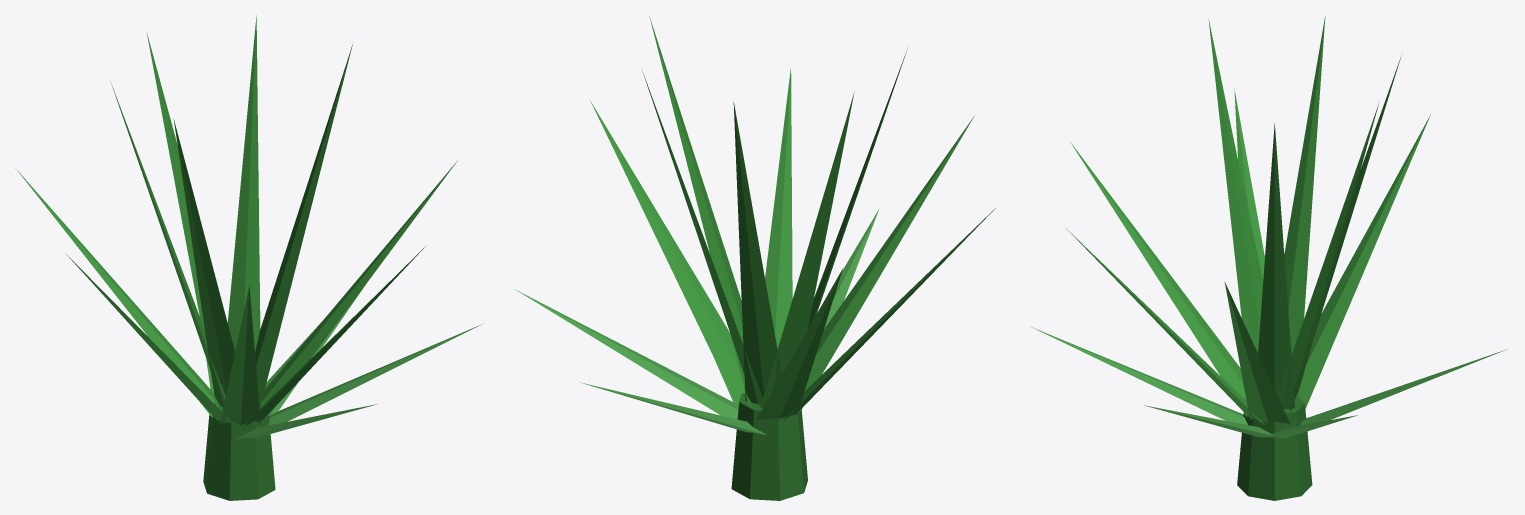
File: Planta_Pineapple.fbx
3 views of the same model, side by side, from view 1: azimuth 30°, elevation 25°; view 2: azimuth 150°, elevation 25°; view 3: azimuth 270°, elevation 25° (orthographic). The views are drawn at different scales.
Parts seen in each view (by area): view 1: Corpo_Pineapple; view 2: Corpo_Pineapple; view 3: Corpo_Pineapple.
Boxes of the visible parts, x1,y1,x2,y2 form: Corpo_Pineapple: [15, 15, 483, 500]; Corpo_Pineapple: [515, 16, 995, 500]; Corpo_Pineapple: [1031, 16, 1507, 500].
Size of the model in its own units: 2.45 by 2.46 by 2.56.
Materials: 1 (1 with a texture image).
